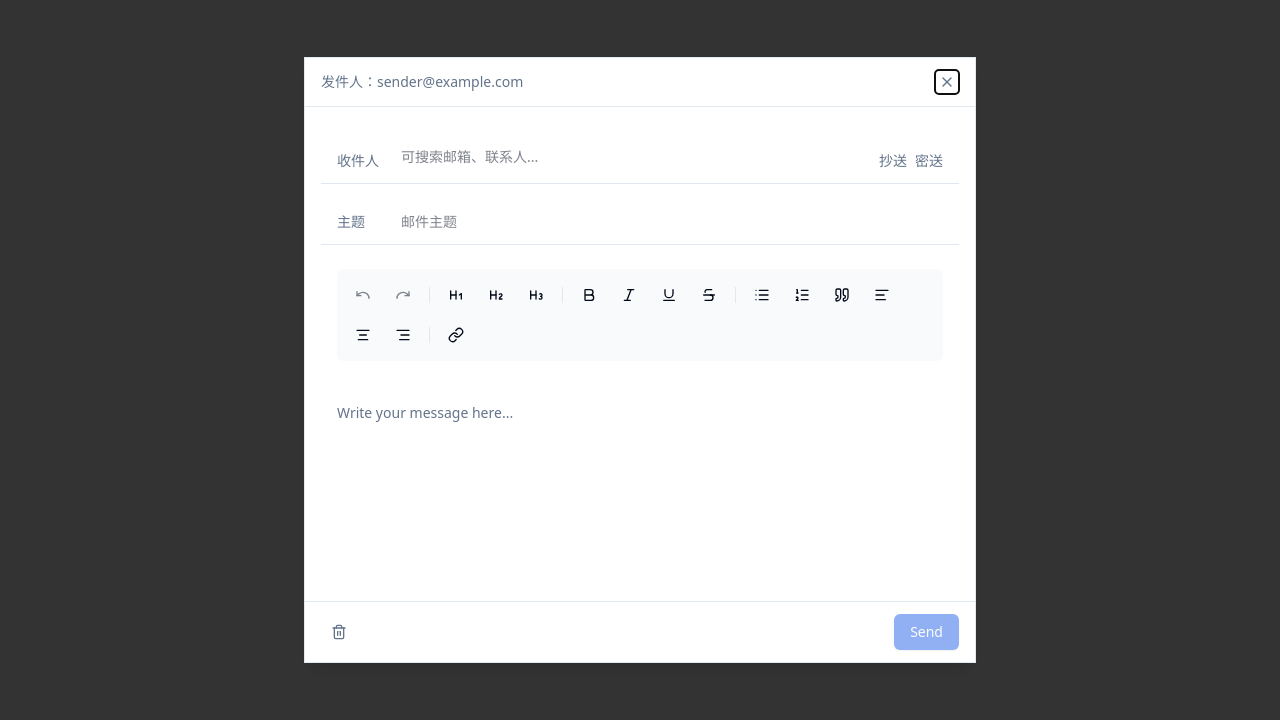
ComposeEmailModal - Rendering › To/Cc/Bcc Fields › Bcc field has correct id for accessibility
Click the button "密送" at [929, 161], box [915,151,943,171]
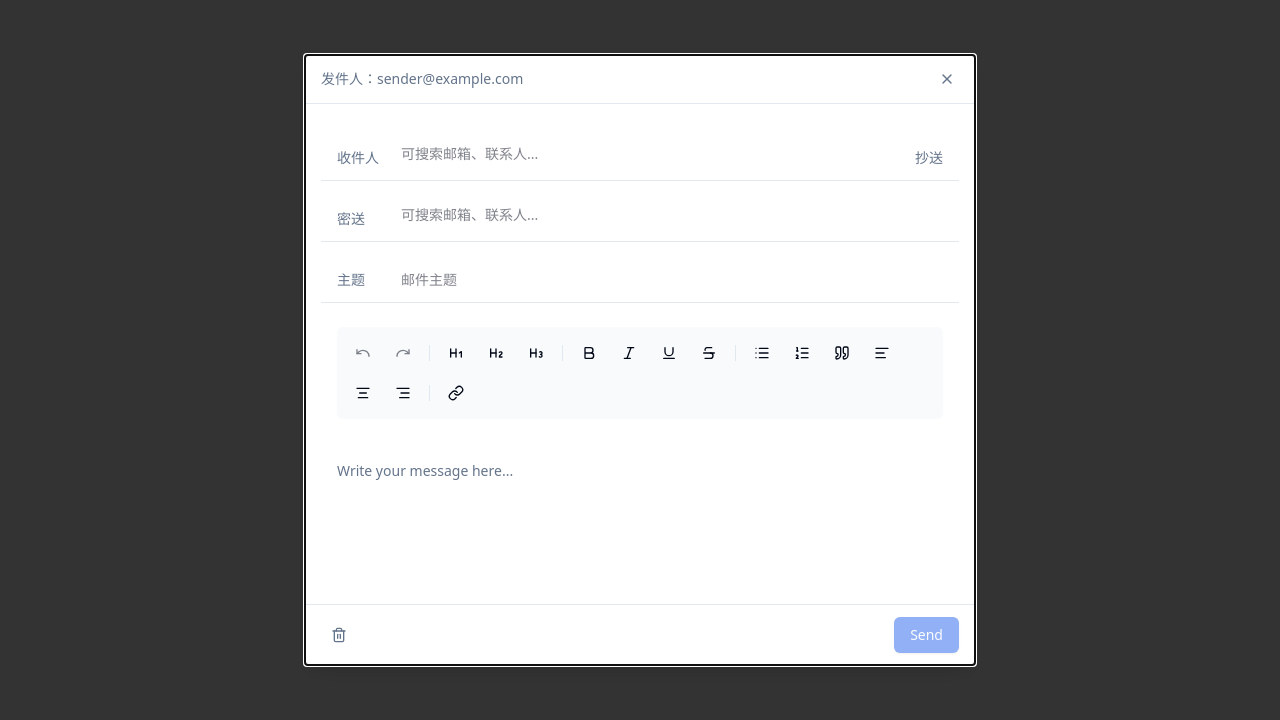
Check: the field with id "bcc-input" is shown, box [401,205,943,225]
